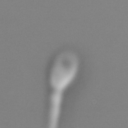abnormal: (44, 89, 70, 128)
